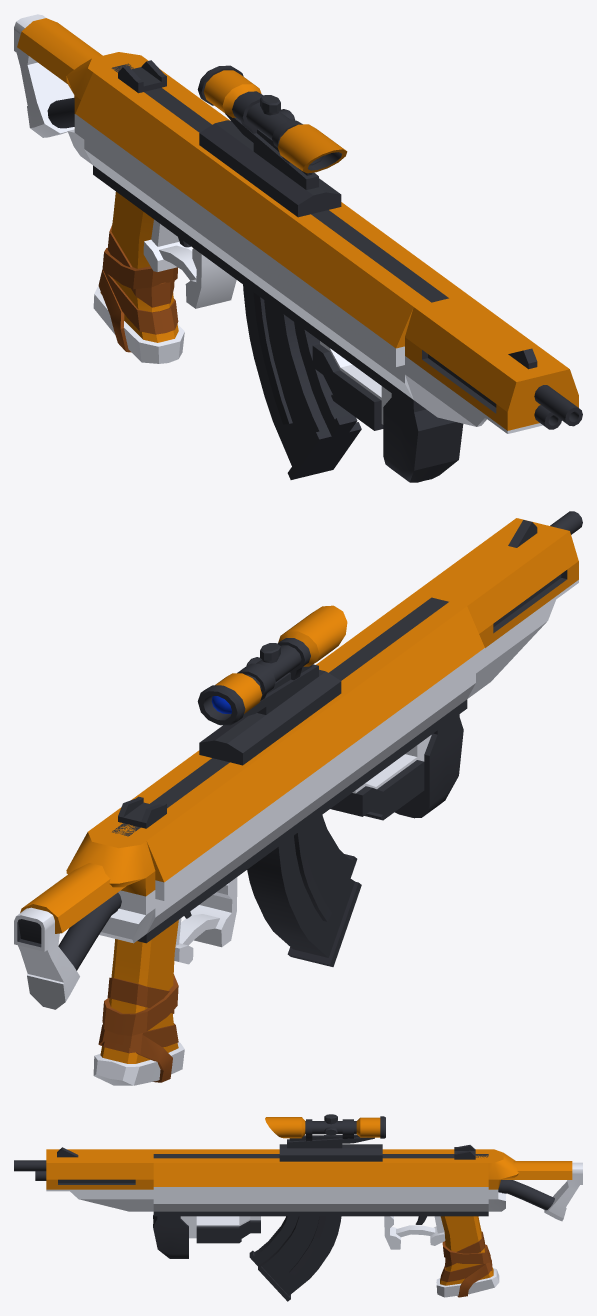
The model's file is rifle5.fbx.
3 views of the same model, one above another, from view 1: azimuth 30°, elevation 25°; view 2: azimuth 150°, elevation 25°; view 3: azimuth 270°, elevation 25° (orthographic). The views are drawn at different scales.
Parts seen in each view (by area): view 1: mergedBlocks; view 2: mergedBlocks; view 3: mergedBlocks.
Part boxes in pixels (box(x1,y1,x2,y2)): mergedBlocks: box(14, 14, 582, 482); mergedBlocks: box(14, 511, 582, 1085); mergedBlocks: box(14, 1114, 582, 1301).
Bounding box in the file's own units: 5 × 18.54 × 53.
